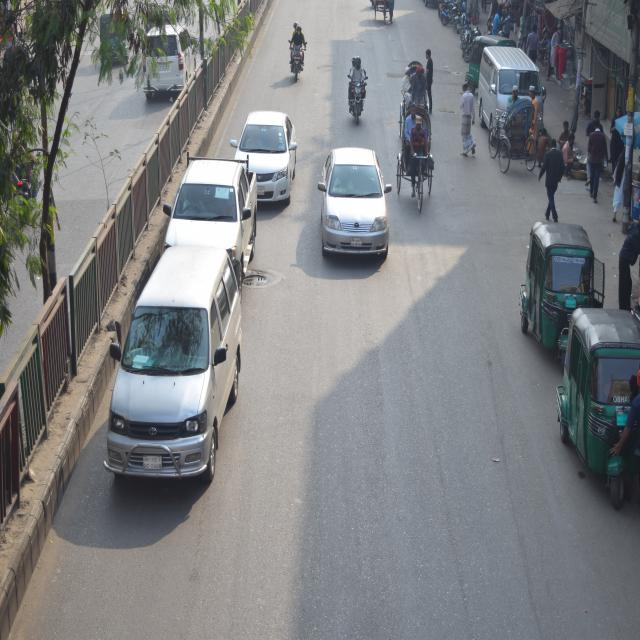car: (169, 159, 258, 271), (319, 146, 389, 259), (238, 108, 296, 208)
microbus: (114, 252, 239, 518), (476, 41, 542, 143), (138, 26, 198, 94)
motorbike: (346, 74, 370, 125), (284, 43, 309, 88)
